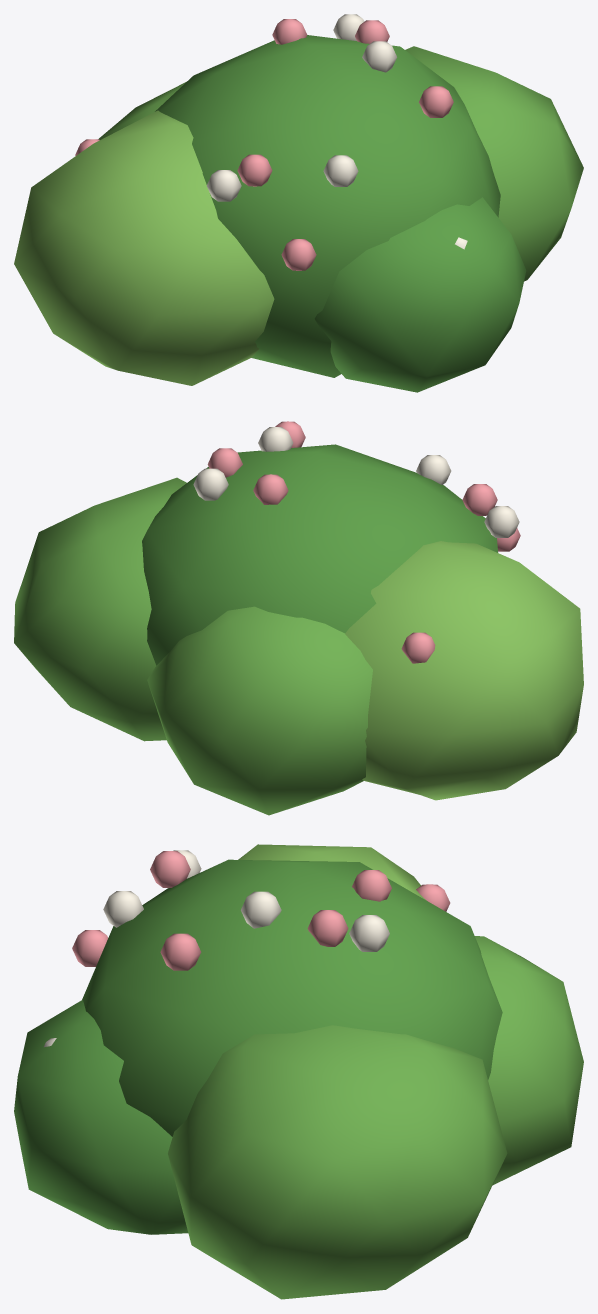
File: bush.glb
The picture shows the model from 3 angles, top to bottom: view 1: azimuth 30°, elevation 25°; view 2: azimuth 150°, elevation 25°; view 3: azimuth 270°, elevation 25°; orthographic projection. The views are drawn at different scales.
Visible parts, largest first — view 1: Bush; view 2: Bush; view 3: Bush.
Boxes of the visible parts, x1=… form: Bush: x1=14, y1=14, x2=583, y2=392; Bush: x1=14, y1=421, x2=583, y2=815; Bush: x1=14, y1=844, x2=583, y2=1299.
Bounding box in the file's own units: 1.74 × 0.9707 × 1.39.
